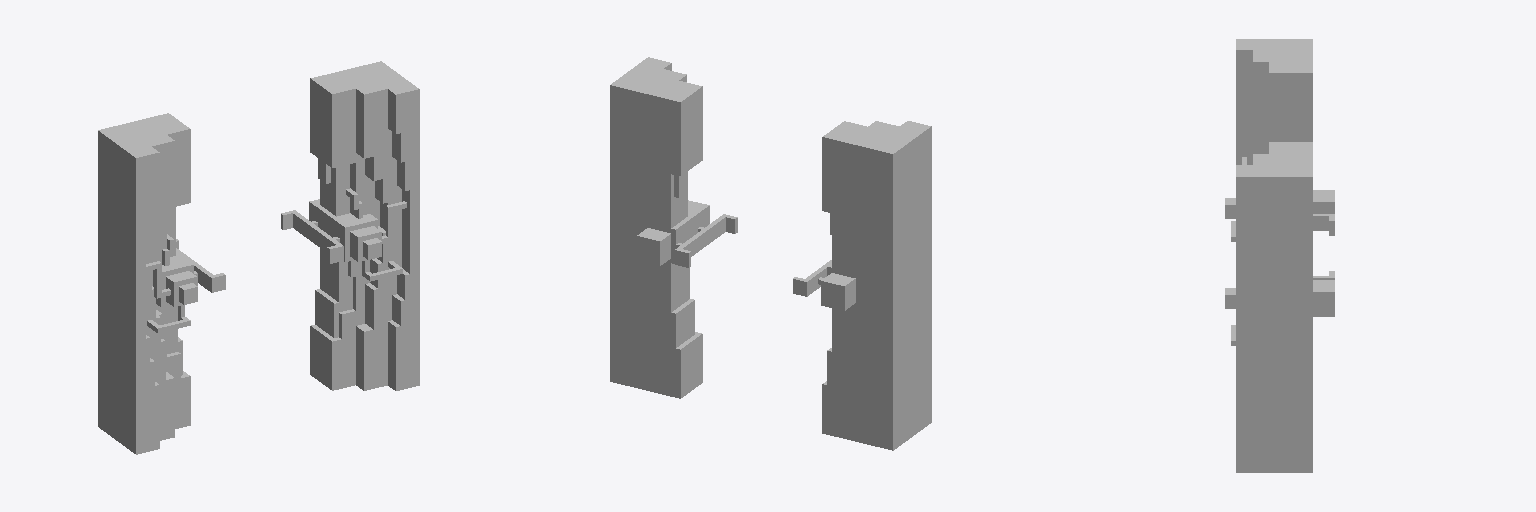
Rendered from gate.obj.
3 renders of one model, left to right at view 1: azimuth 30°, elevation 25°; view 2: azimuth 150°, elevation 25°; view 3: azimuth 270°, elevation 25°, orthographic.
Size of the model in its own units: 60 by 60 by 20.